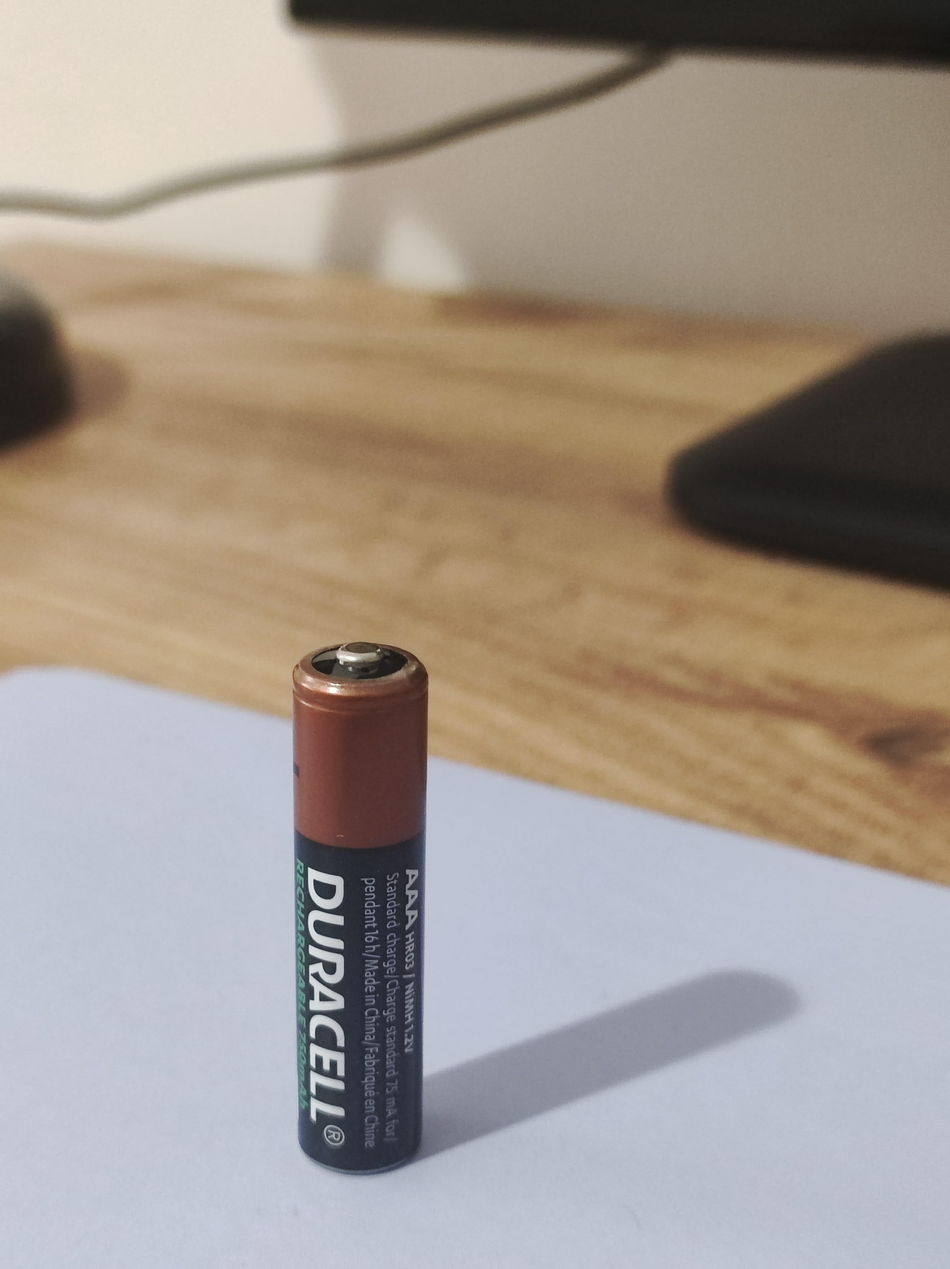AAA: (290, 640, 430, 1174)
